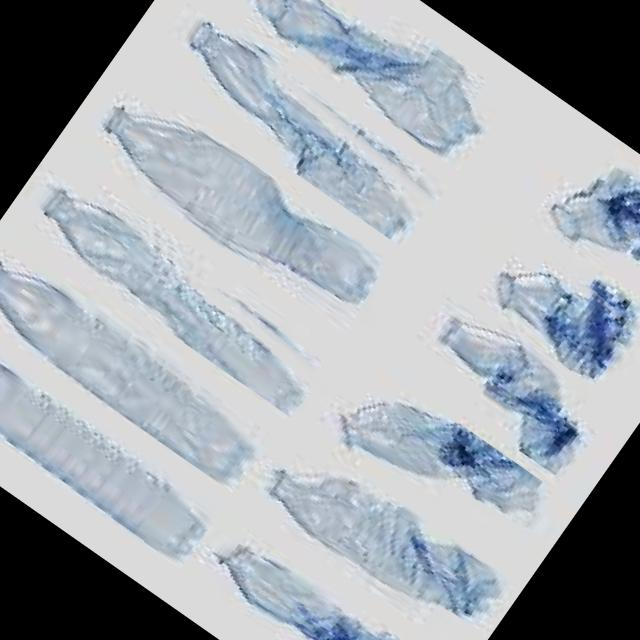plastic bottle: (16, 157, 343, 420), (79, 76, 400, 337), (153, 0, 463, 254), (0, 235, 279, 494), (0, 309, 225, 569), (242, 428, 517, 640), (224, 0, 521, 178), (314, 358, 556, 566), (388, 280, 618, 480), (461, 219, 640, 390), (193, 523, 430, 640), (521, 135, 640, 307)
